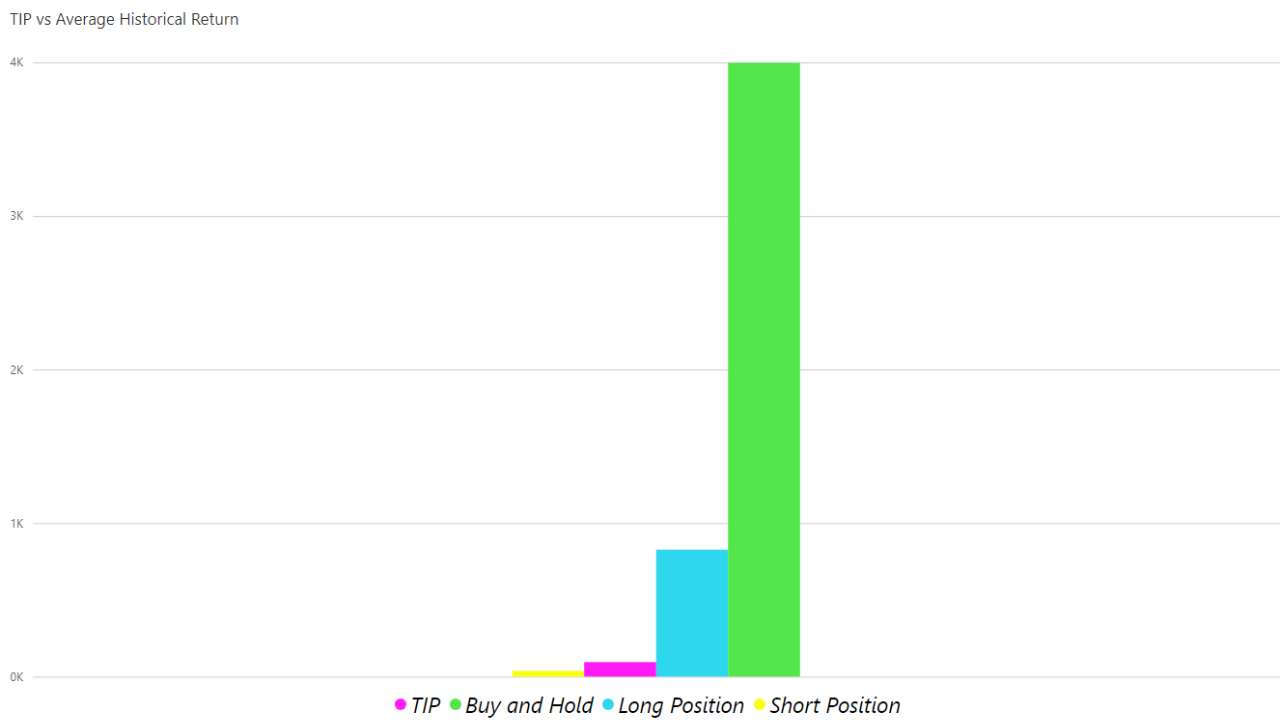

Layout of this report page (visuals, bound fields, positions):
{"tool":"powerbi","page":{"name":"TIP","canvas":[1280,720],"ordinal":4},"visuals":[{"type":"clusteredColumnChart","title":"TIP vs Average Historical Return ","fields":{"Y":["Sum(Sheet1 (2).Return)","Avg(Sheet1.Buy n hold)","Avg(Sheet1.Long position return)","Avg(Sheet1.Short position return)"]},"box":[9.6,0,1270.7,719.8],"z":0}]}

Visuals, with their boxes in screenshot pixels (x1, y1, x2, y2), scaled from the page's 1280x720 canvas onto the 1280x720 screenshot:
"TIP vs Average Historical Return " clusteredColumnChart: Rect(10, 0, 1279, 719)
